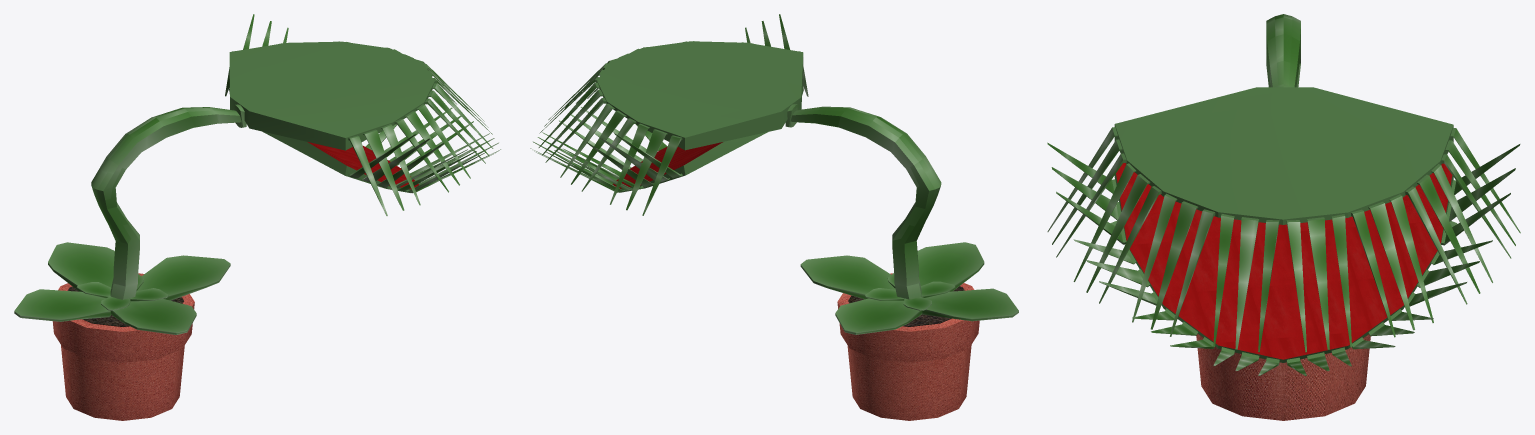
The model's file is venus_trap.fbx.
The picture shows the model from 3 angles, left to right: view 1: azimuth 30°, elevation 25°; view 2: azimuth 150°, elevation 25°; view 3: azimuth 270°, elevation 25°; orthographic projection. The views are drawn at different scales.
Visible parts, largest first — view 1: HeadMouth001, Pot001, Leaves001, Stem, HeadMouth002; view 2: HeadMouth001, Pot001, Leaves001, Stem, HeadMouth002; view 3: HeadMouth001, HeadMouth002, Pot001, Stem.
Boxes of the visible parts, <box> form: HeadMouth001: <box>225,41,493,215</box>; Pot001: <box>52,273,194,420</box>; Leaves001: <box>14,242,230,334</box>; Stem: <box>91,104,246,299</box>; HeadMouth002: <box>229,14,500,193</box>; HeadMouth001: <box>538,41,808,215</box>; Pot001: <box>837,273,979,420</box>; Leaves001: <box>800,242,1018,334</box>; Stem: <box>785,104,941,299</box>; HeadMouth002: <box>530,14,803,192</box>; HeadMouth001: <box>1047,87,1520,352</box>; HeadMouth002: <box>1047,142,1520,375</box>; Pot001: <box>1196,334,1370,420</box>; Stem: <box>1266,14,1300,87</box>.
Size of the model in its own units: 78.89 by 44.34 by 48.06.
Materials: 5 (5 with a texture image).
